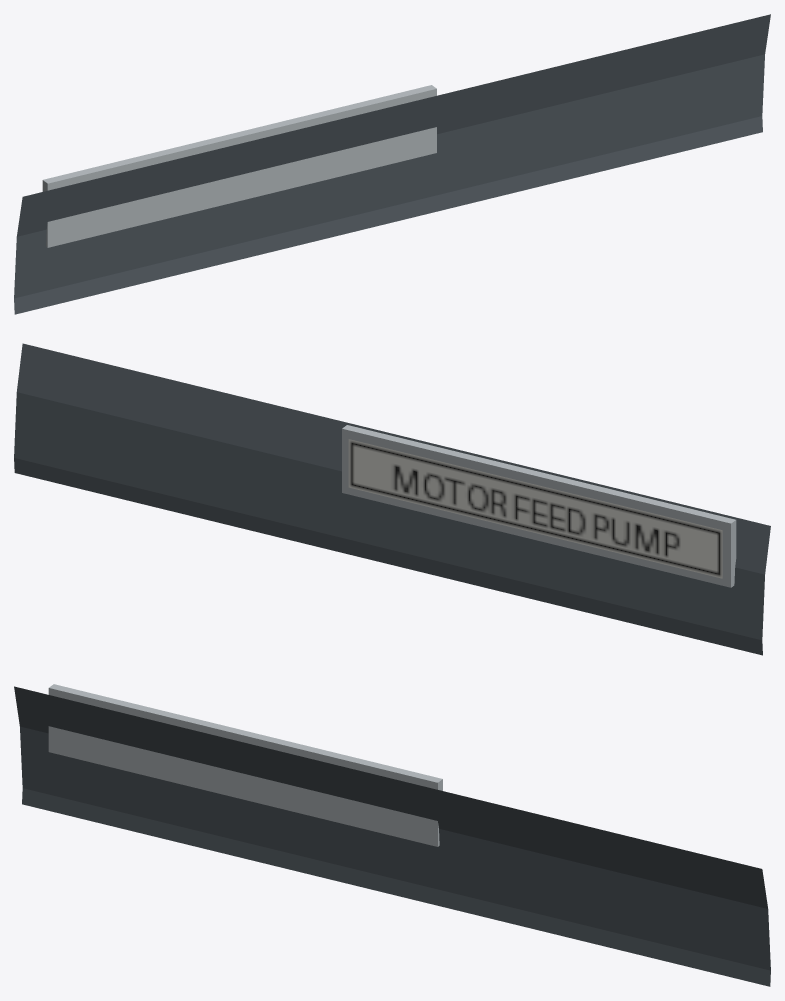
File: cell_23.obj
3 views of the same model, one above another, from view 1: azimuth 30°, elevation 25°; view 2: azimuth 150°, elevation 25°; view 3: azimuth 330°, elevation 25° (orthographic).
Bounding box in the file's own units: 1 × 0.161 × 0.025.
